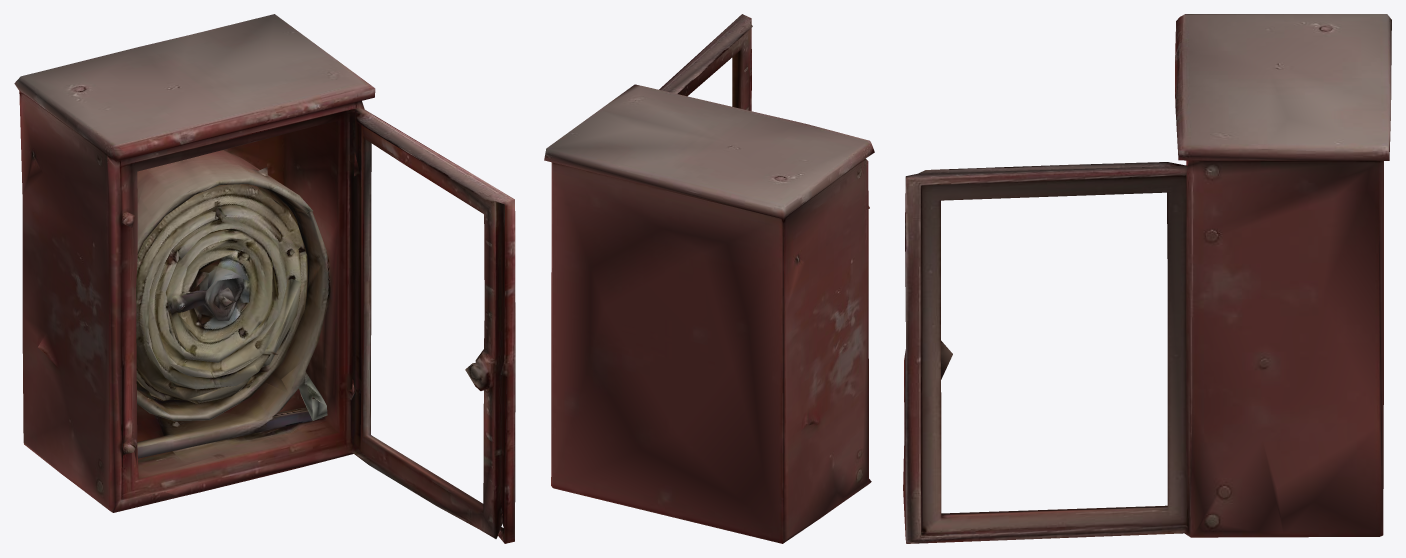
File: fire_hose_cabinet.glb
3 renders of one model, left to right at view 1: azimuth 30°, elevation 25°; view 2: azimuth 150°, elevation 25°; view 3: azimuth 270°, elevation 25°, orthographic. The views are drawn at different scales.
Parts seen in each view (by area): view 1: Model; view 2: Model; view 3: Model.
Part boxes in pixels (x1,y1,x2,y2): Model: (14, 14, 515, 543); Model: (544, 14, 874, 543); Model: (903, 14, 1391, 543).
Bounding box in the file's own units: 0.691 × 0.8886 × 0.9963.
Materials: 1 (1 with a texture image).
